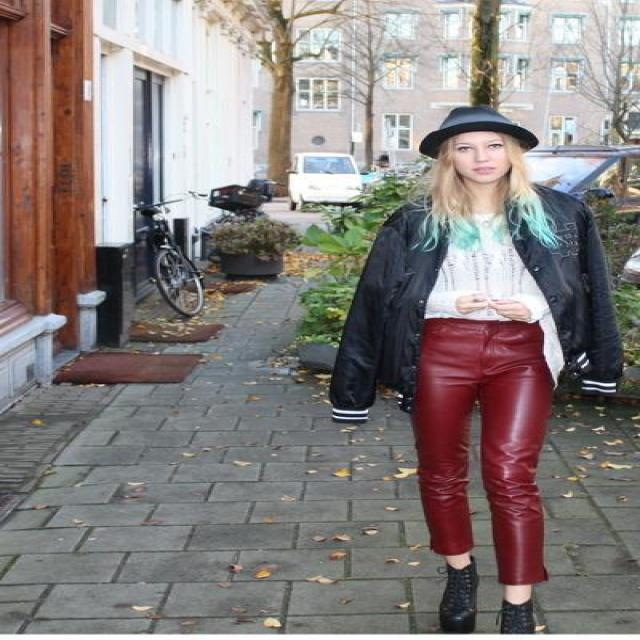hat: (419, 103, 538, 158)
jacket: (328, 180, 621, 425)
pants: (411, 318, 571, 584)
shirt: (424, 220, 563, 386)
shoe: (438, 558, 534, 633)
